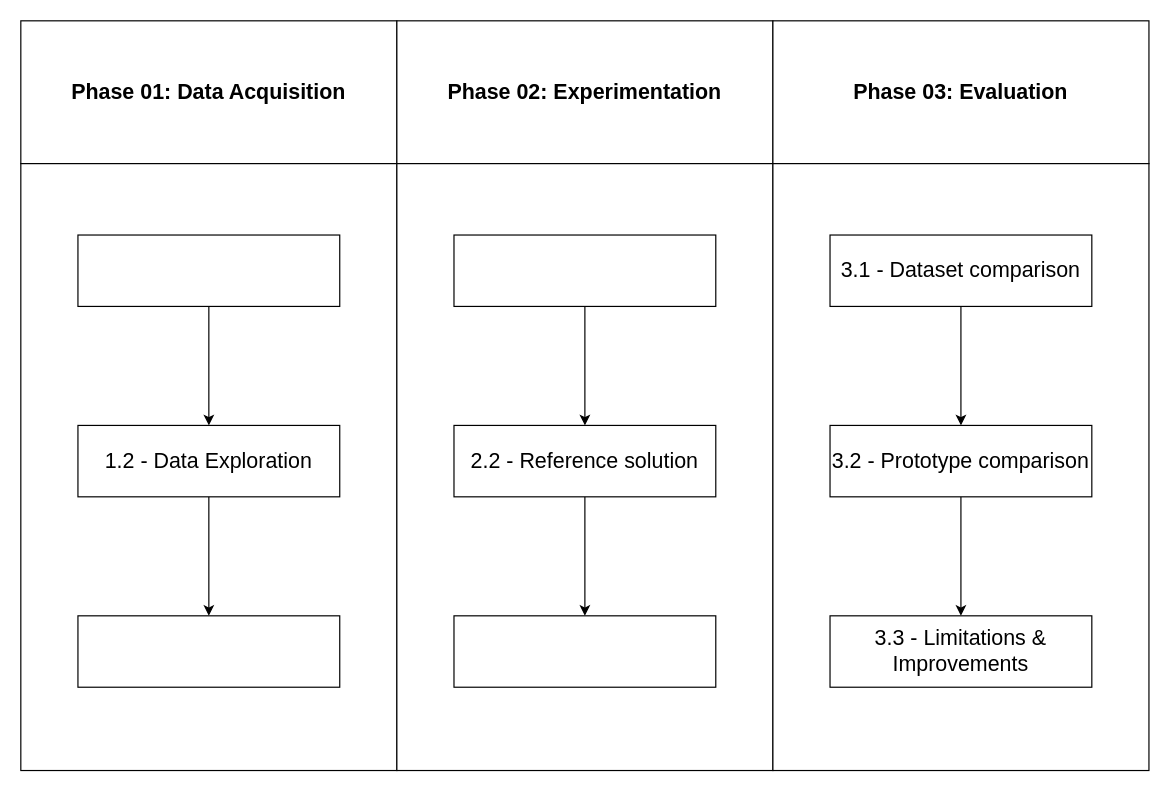
Some shapes in this 1170 by 791 pixel diagram are drawn without their labels. Here are the shapes that lost their labels. From the top down, the centre of each, then its label:
At point (208, 270): "1.1 - Data Gathering".
At point (584, 270): "2.1 - Base implementation".
At point (208, 651): "1.3 - Data Cleaning".
At point (584, 651): "2.3 - Research Focus".
